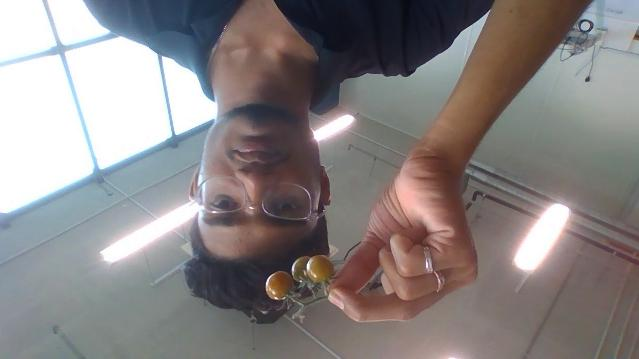Fully Grown: (264, 270, 294, 301), (304, 254, 334, 284), (292, 256, 312, 283)
